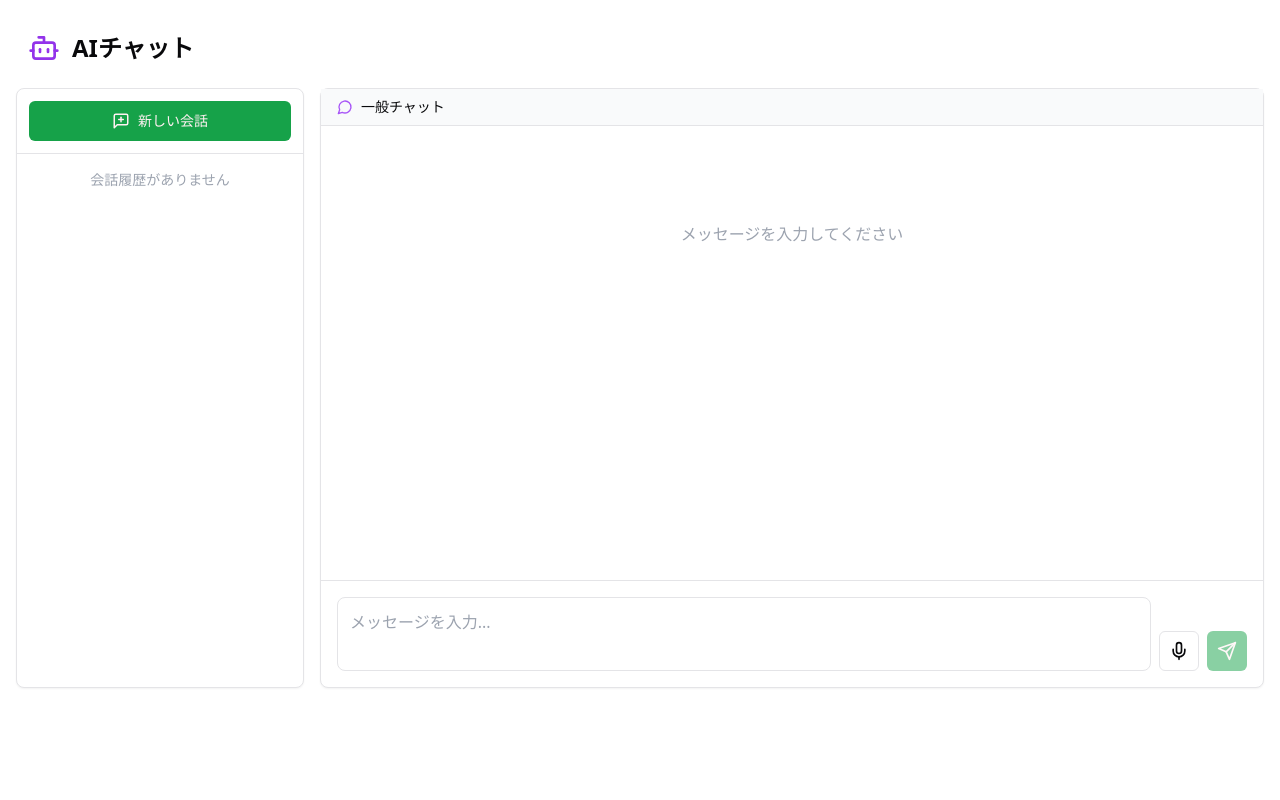
Test case: GeminiChatPage › メッセージ送信 › should send message and display response
Type "こんにちは" into the text box with placeholder "メッセージを入力...". click: (744, 634)
box: [337, 597, 1151, 671]
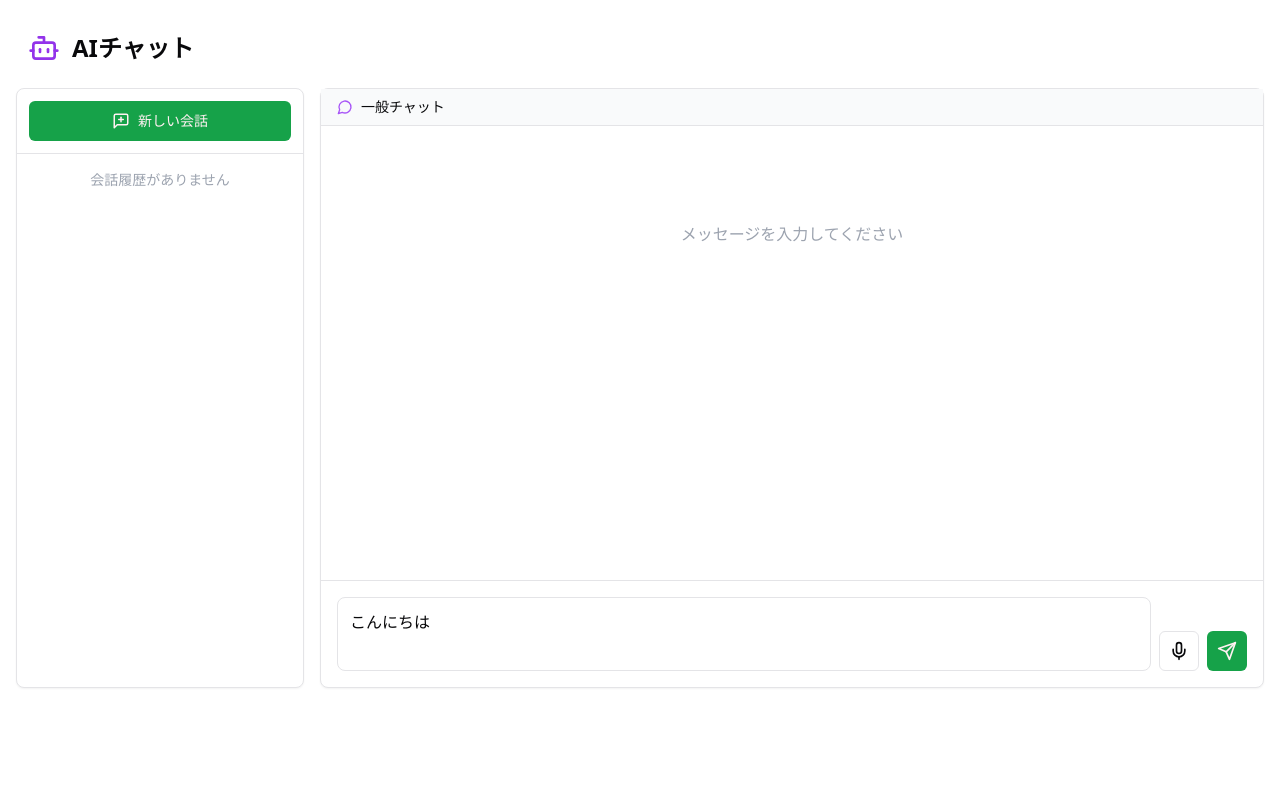
Click the 3rd button. click: (1227, 651)
box: [1207, 631, 1247, 671]
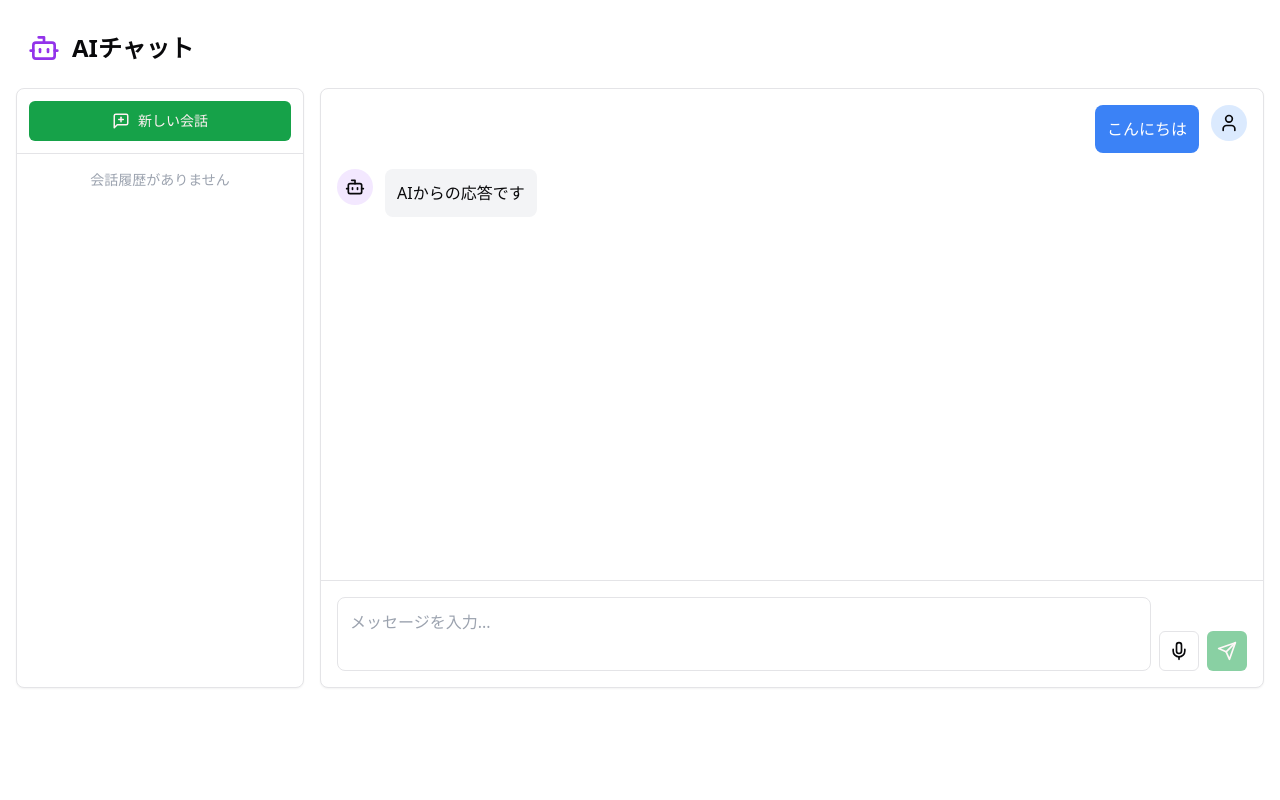
expect the text "こんにちは" is shown: met, box [1107, 117, 1187, 141]
expect the text "AIからの応答です" is shown: met, box [397, 181, 525, 205]
